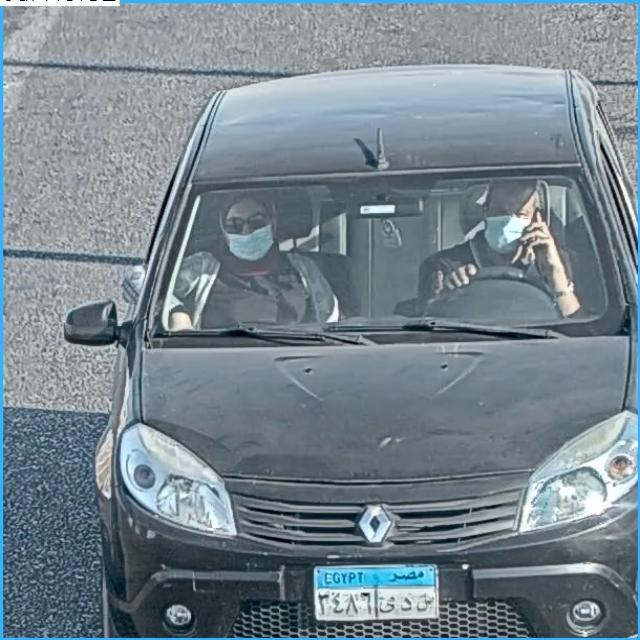windshield: (162, 174, 632, 333)
